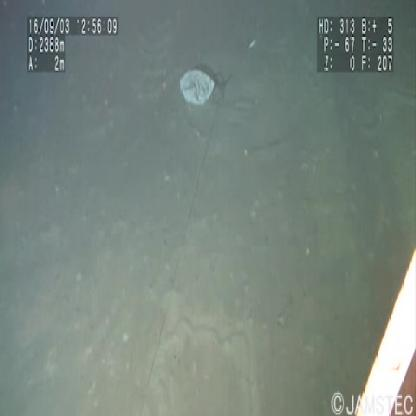Rác: (176, 64, 222, 112)
